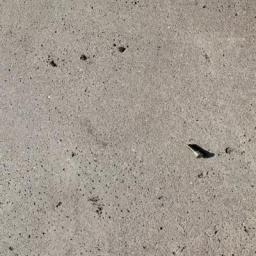FOD: (187, 142, 216, 161)
